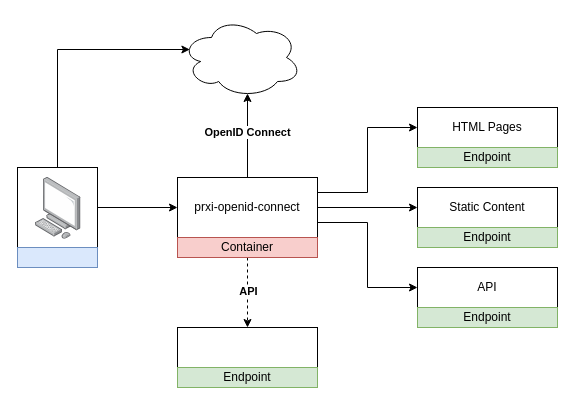
This 575x405 diagram has some shape labels left out. The centre of each missing label's shape, as x and y in pixels:
"Client" belongs at point (57, 257).
"IDP" belongs at point (241, 57).
"Webhook Handler" belongs at point (247, 347).
